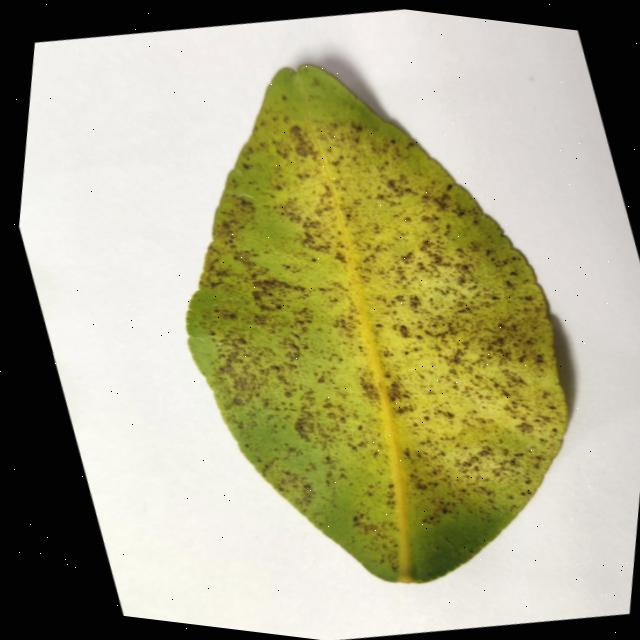melanose: (186, 64, 566, 581)
